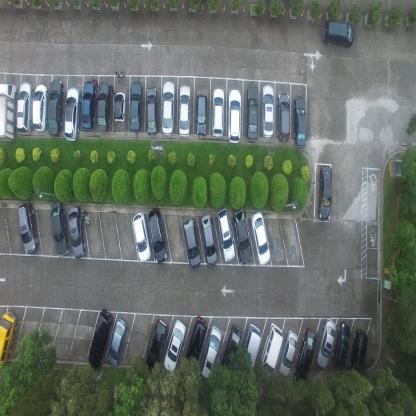car: (88, 307, 113, 370), (183, 316, 207, 373), (294, 327, 317, 386), (145, 318, 168, 373), (260, 322, 283, 376), (232, 203, 252, 265), (200, 324, 222, 380), (239, 322, 261, 378), (147, 206, 168, 263), (164, 319, 186, 373), (18, 202, 39, 255), (220, 324, 242, 374), (107, 316, 128, 367), (216, 207, 235, 263), (251, 210, 270, 266), (46, 78, 64, 137), (67, 205, 86, 260), (0, 310, 18, 368), (316, 318, 336, 370), (0, 82, 17, 143), (50, 200, 68, 257), (200, 212, 218, 268), (278, 329, 298, 378), (348, 328, 368, 377), (321, 19, 354, 48), (64, 85, 81, 141), (331, 322, 351, 368), (182, 217, 200, 268), (132, 211, 150, 262), (227, 88, 242, 146), (317, 165, 332, 222), (16, 81, 32, 134), (160, 80, 174, 137), (245, 85, 259, 141), (81, 80, 96, 132), (32, 84, 48, 132), (97, 80, 111, 133), (129, 81, 143, 133), (276, 92, 291, 140), (178, 84, 191, 138), (293, 96, 306, 148), (145, 85, 158, 136), (262, 84, 274, 139), (212, 87, 224, 139), (195, 94, 207, 138), (113, 90, 126, 123)
